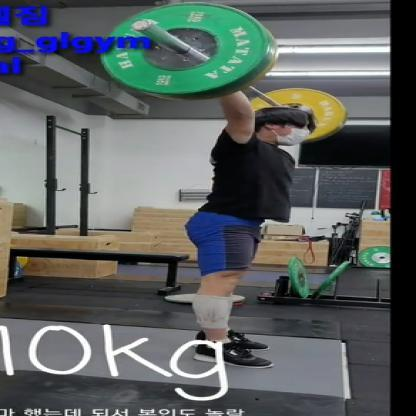Barbell: (129, 18, 160, 35)
